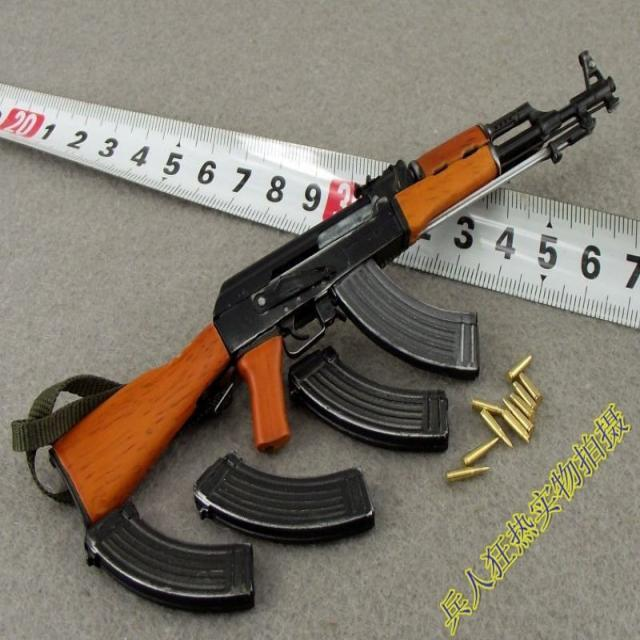ak: (48, 47, 620, 530)
